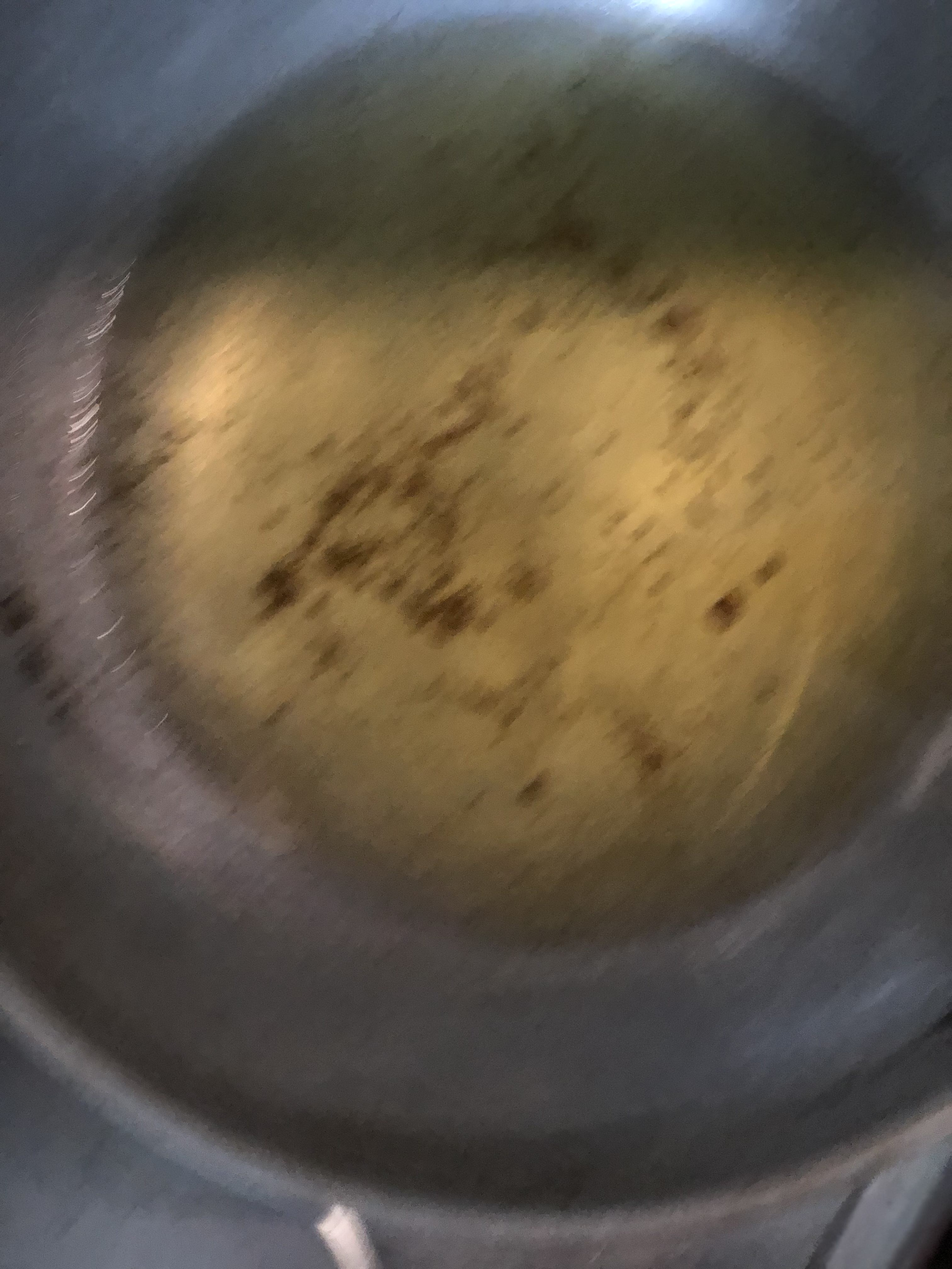reusable: (110, 19, 952, 941)
